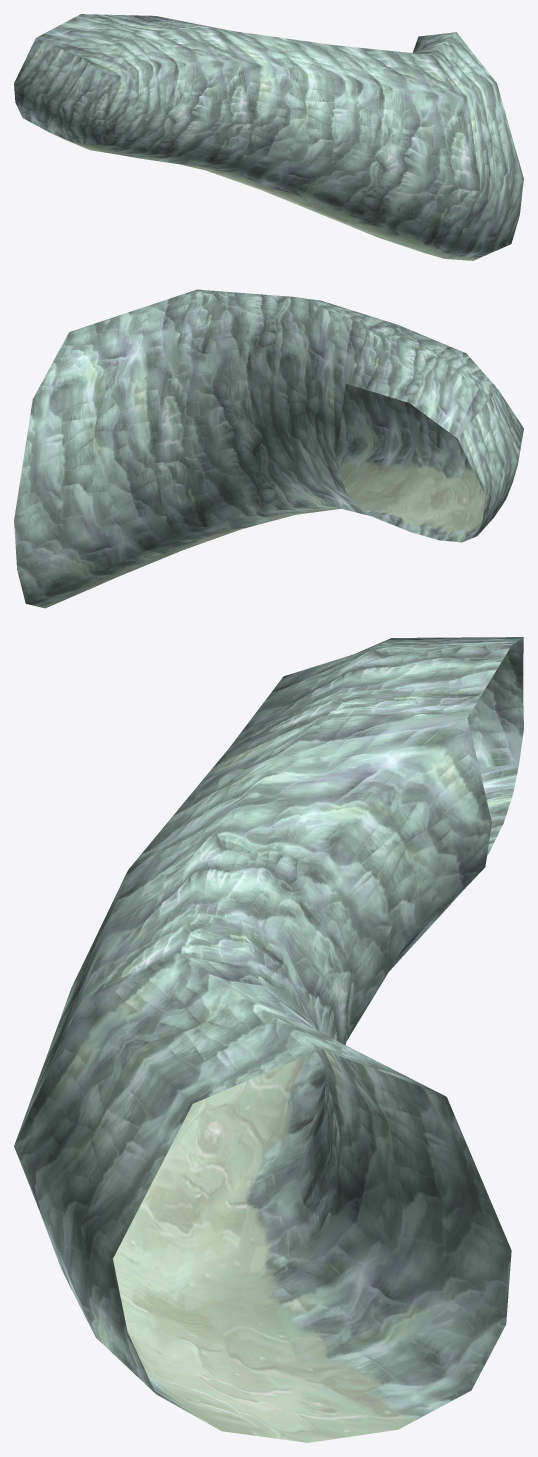
Rendered from TROLLHOLE02_PS-MAINCAVE11.fbx.
3 renders of one model, top to bottom at view 1: azimuth 30°, elevation 25°; view 2: azimuth 150°, elevation 25°; view 3: azimuth 270°, elevation 25°, orthographic. The views are drawn at different scales.
Parts seen in each view (by area): view 1: TROLLHOLE02_PS-MAINCAVE11; view 2: TROLLHOLE02_PS-MAINCAVE11; view 3: TROLLHOLE02_PS-MAINCAVE11.
Part boxes in pixels (x1=…): TROLLHOLE02_PS-MAINCAVE11: x1=14, y1=14, x2=523, y2=260; TROLLHOLE02_PS-MAINCAVE11: x1=14, y1=289, x2=523, y2=608; TROLLHOLE02_PS-MAINCAVE11: x1=14, y1=637, x2=523, y2=1442.
Size of the model in its own units: 217639 by 144053 by 130026.
Materials: 3 (3 with a texture image).
